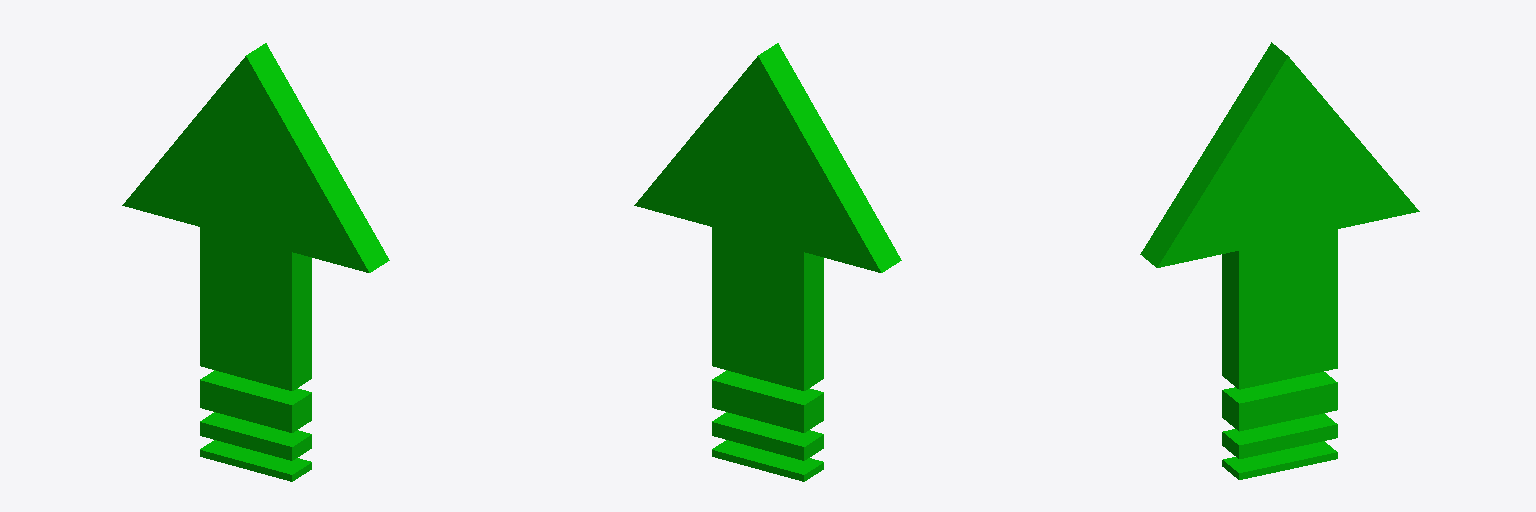
Rendered from arrow_up.obj.
3 views of the same model, side by side, from view 1: azimuth 30°, elevation 25°; view 2: azimuth 210°, elevation 25°; view 3: azimuth 270°, elevation 25° (orthographic).
Parts seen in each view (by area): view 1: Cube; view 2: Cube; view 3: Cube.
Boxes of the visible parts, <box> form: Cube: <box>122,43,389,481</box>; Cube: <box>634,43,901,481</box>; Cube: <box>1140,42,1419,479</box>.
Bounding box in the file's own units: 0.9061 × 2.48 × 1.52.